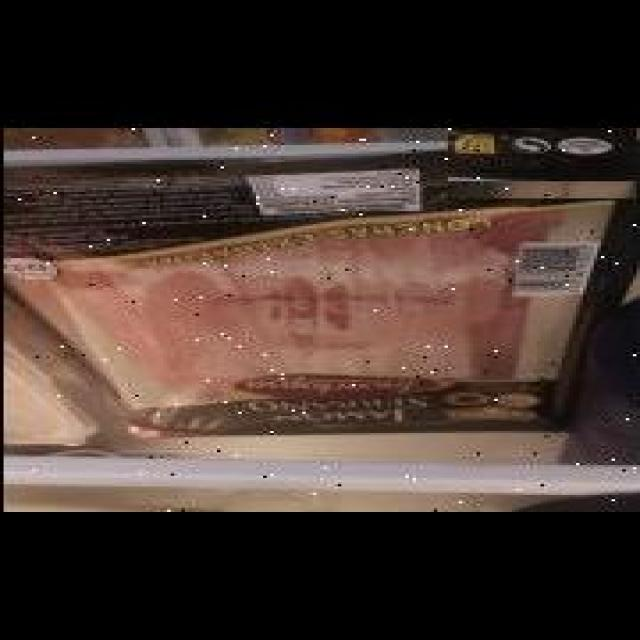sausage: (444, 128, 633, 198)
